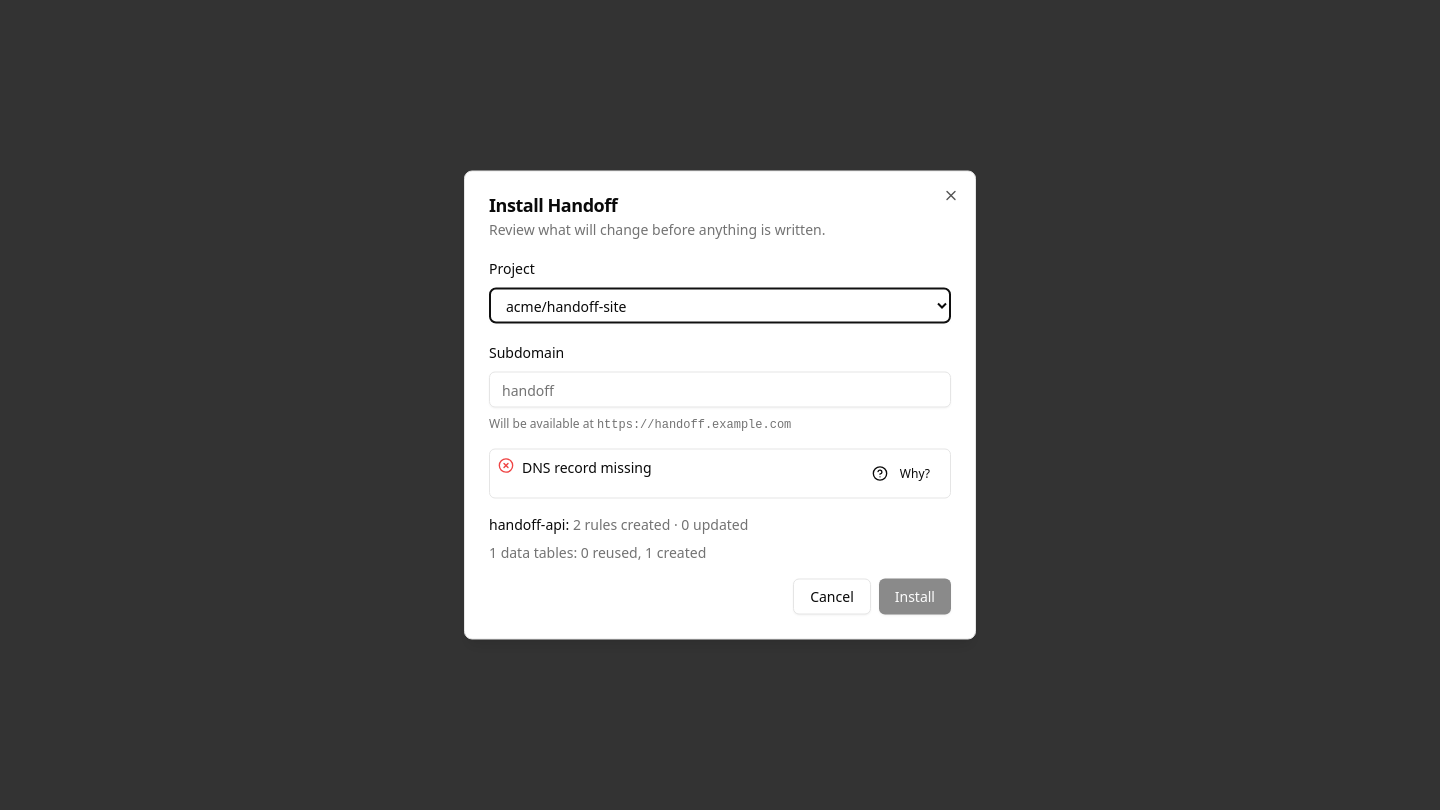
Test: InstallDialog — Review screen › shows the "Why?" remediation for a failed gate
Click the button "Why?" at (901, 474), box 860,458 -> 942,490
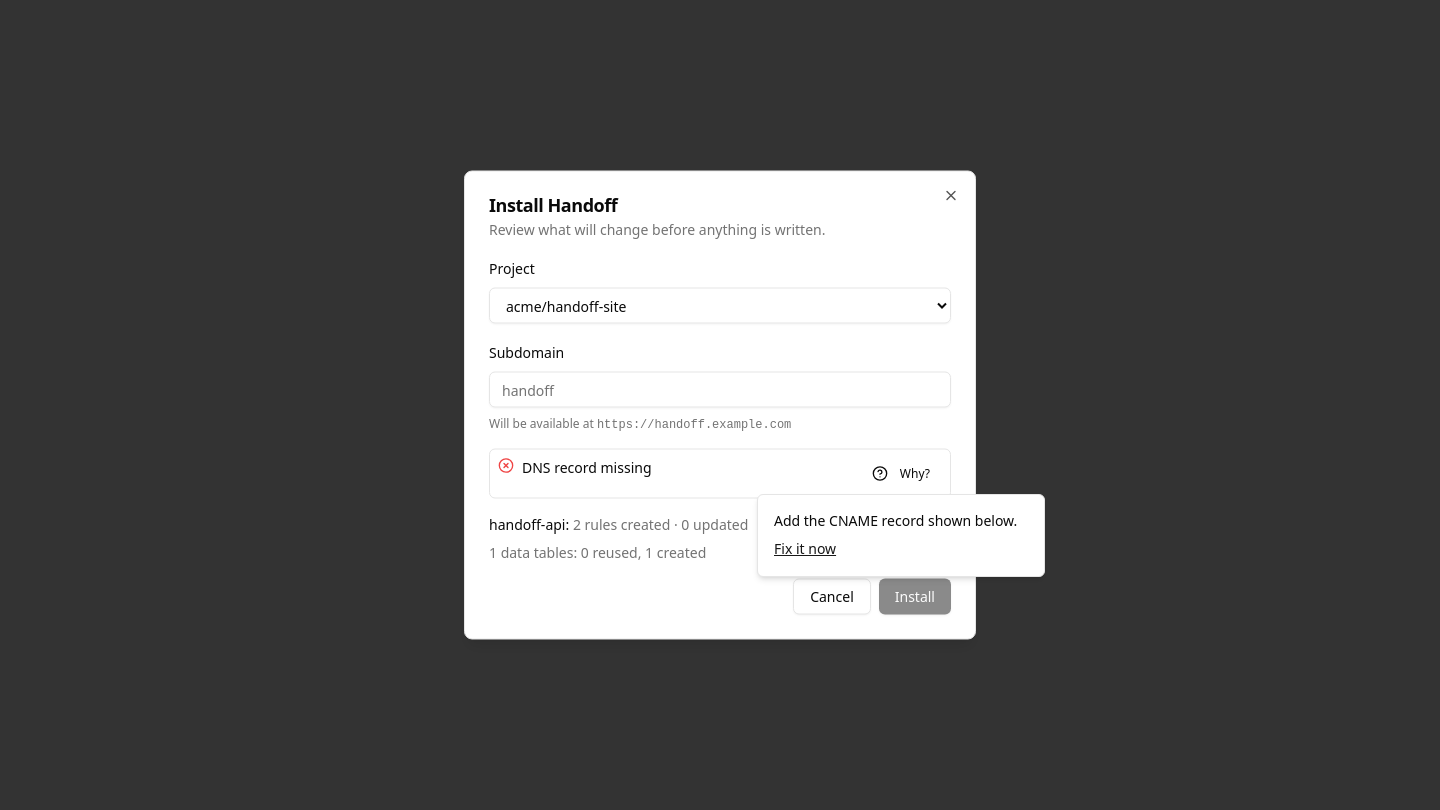
Now the text "Add the CNAME record shown below." is shown, box 774,511 -> 1028,531
